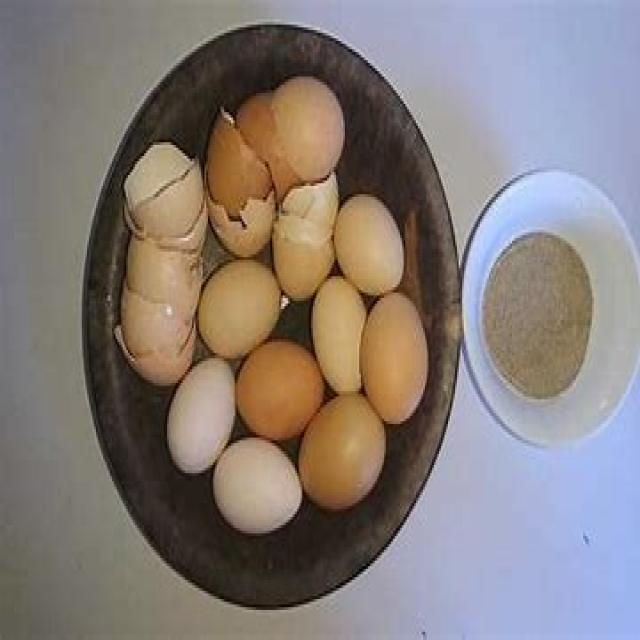White Egg: (160, 352, 236, 479), (208, 438, 305, 533)
